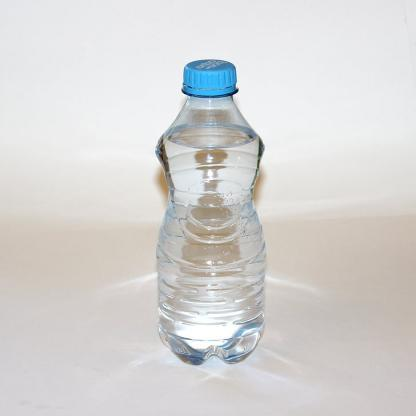bottle: (151, 51, 273, 372)
